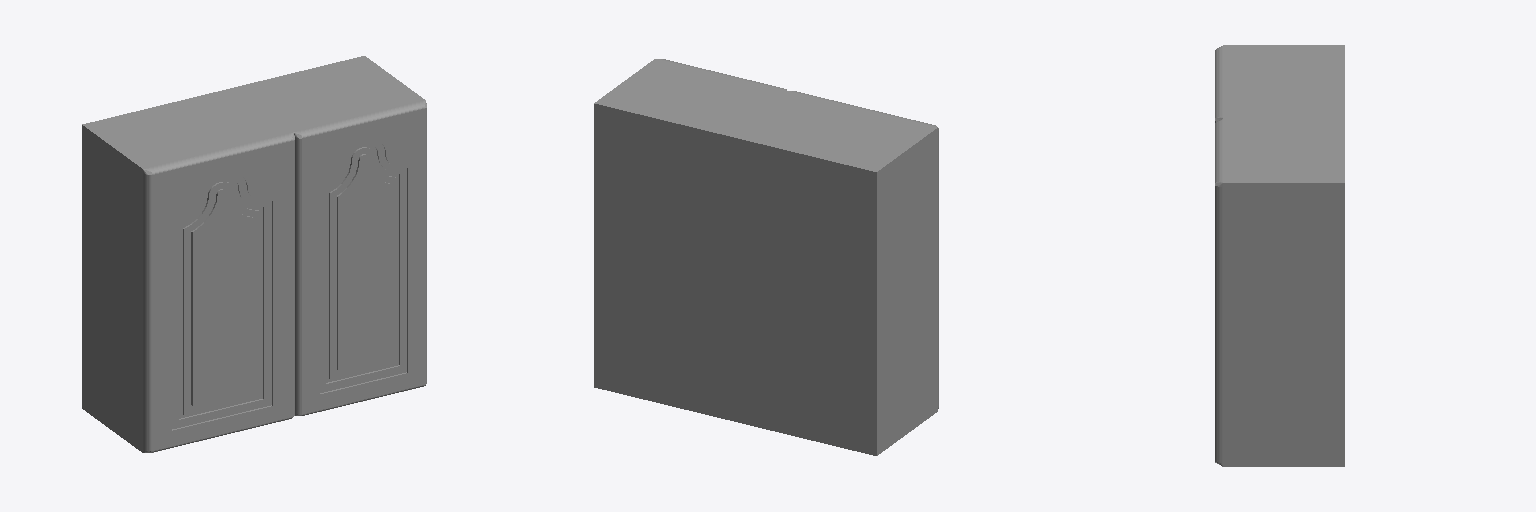
The model's file is double-wall-unit-750.obj.
3 views of the same model, side by side, from view 1: azimuth 30°, elevation 25°; view 2: azimuth 150°, elevation 25°; view 3: azimuth 270°, elevation 25° (orthographic).
Visible parts, largest first — view 1: Cube.003_Cube.008, Cube.004_Cube.000, Cube.002_Cube.004, Cube_Cube.002; view 2: Cube_Cube.002, Cube.002_Cube.004, Cube.001_Cube.003, Cube.003_Cube.008; view 3: Cube.001_Cube.003, Cube_Cube.002, Cube.004_Cube.000, Cube.003_Cube.008.
Boxes of the visible parts, x1=… form: Cube.003_Cube.008: x1=143, y1=132, x2=294, y2=452; Cube.004_Cube.000: x1=294, y1=100, x2=426, y2=415; Cube.002_Cube.004: x1=82, y1=123, x2=147, y2=452; Cube_Cube.002: x1=88, y1=57, x2=419, y2=167; Cube_Cube.002: x1=600, y1=60, x2=931, y2=454; Cube.002_Cube.004: x1=871, y1=126, x2=937, y2=455; Cube.001_Cube.003: x1=594, y1=59, x2=659, y2=388; Cube.003_Cube.008: x1=789, y1=91, x2=938, y2=408; Cube.001_Cube.003: x1=1223, y1=180, x2=1344, y2=466; Cube_Cube.002: x1=1223, y1=48, x2=1344, y2=179; Cube.004_Cube.000: x1=1215, y1=119, x2=1222, y2=466; Cube.003_Cube.008: x1=1215, y1=46, x2=1222, y2=122.
Bounding box in the file's own units: 150 × 144 × 60.